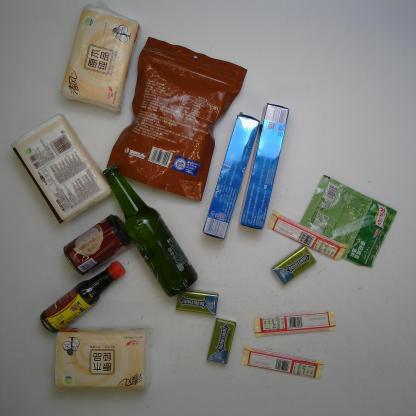Alcohol: (102, 163, 198, 298)
Canned Food: (62, 213, 132, 276)
Chocolate: (266, 209, 348, 262), (240, 341, 325, 382), (254, 310, 338, 339)
Dried Food: (105, 35, 249, 203)
Gum: (271, 244, 317, 287), (206, 317, 238, 365), (174, 288, 219, 317)
Personal Hygiene: (201, 111, 260, 241), (236, 102, 290, 232)
Seasoner: (300, 174, 398, 269), (39, 260, 127, 334)
Tissue: (10, 112, 112, 228), (60, 2, 142, 115), (53, 326, 152, 391)
